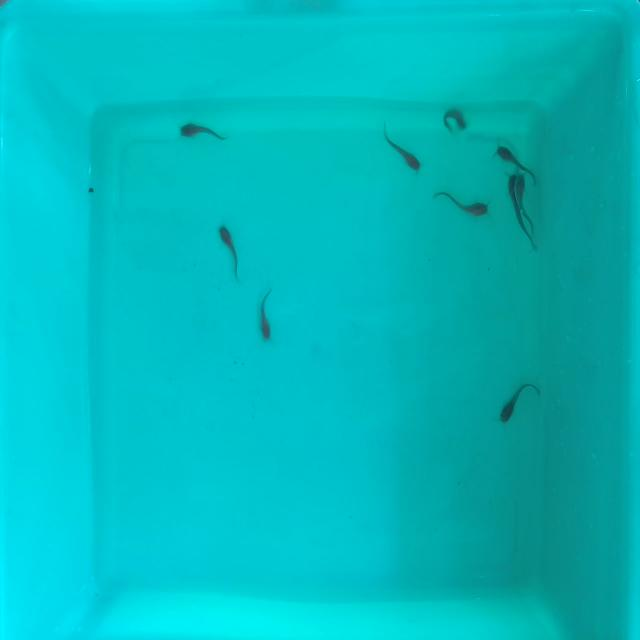lele: (506, 173, 539, 252), (379, 121, 426, 174), (434, 186, 490, 218), (216, 225, 247, 282), (498, 382, 534, 426), (514, 174, 539, 235), (497, 141, 542, 171), (176, 119, 228, 144), (258, 286, 273, 340), (442, 106, 470, 133)
